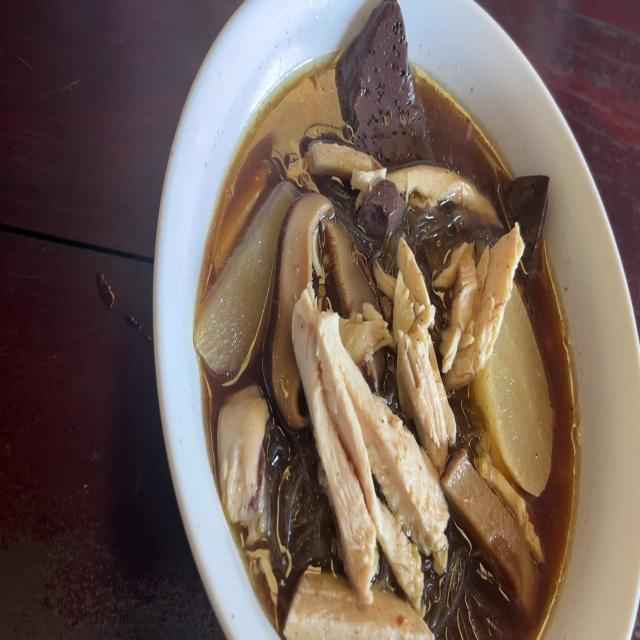noodle: (335, 0, 431, 161), (506, 162, 550, 255), (366, 182, 398, 230)
